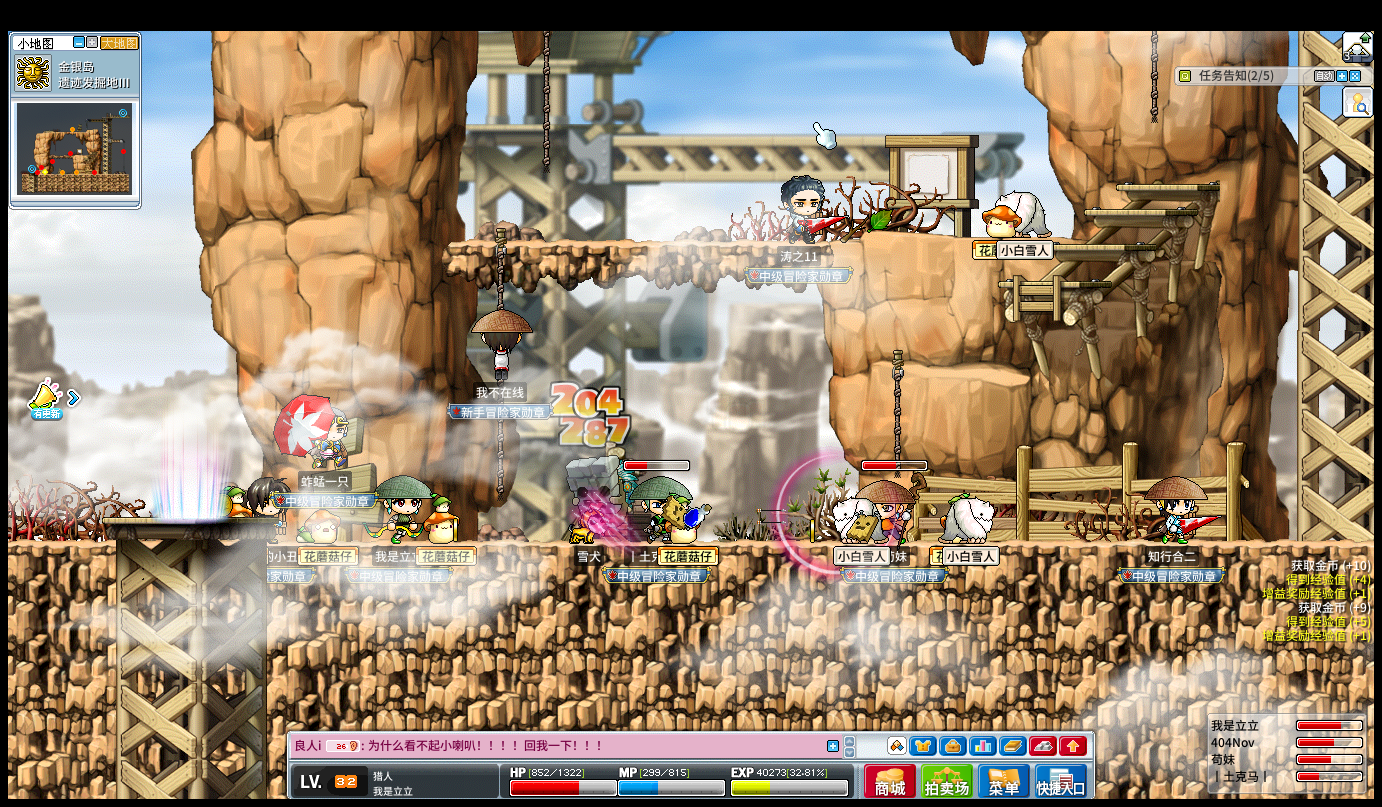floor: (267, 537, 1374, 550), (441, 238, 821, 249), (924, 364, 1032, 385), (928, 232, 1078, 242), (101, 518, 278, 525), (8, 539, 115, 550), (1079, 207, 1191, 216), (996, 281, 1109, 289), (1047, 243, 1158, 250), (1116, 184, 1220, 191)
monster: (567, 456, 634, 527)
rope: (889, 349, 903, 466), (543, 30, 551, 175), (492, 229, 506, 309), (1148, 31, 1157, 121), (497, 421, 504, 497)
